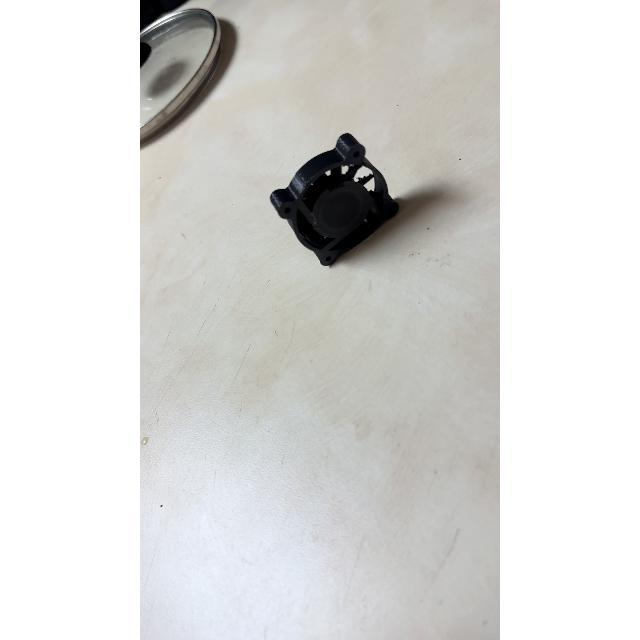Pieza4: (266, 121, 402, 289)
